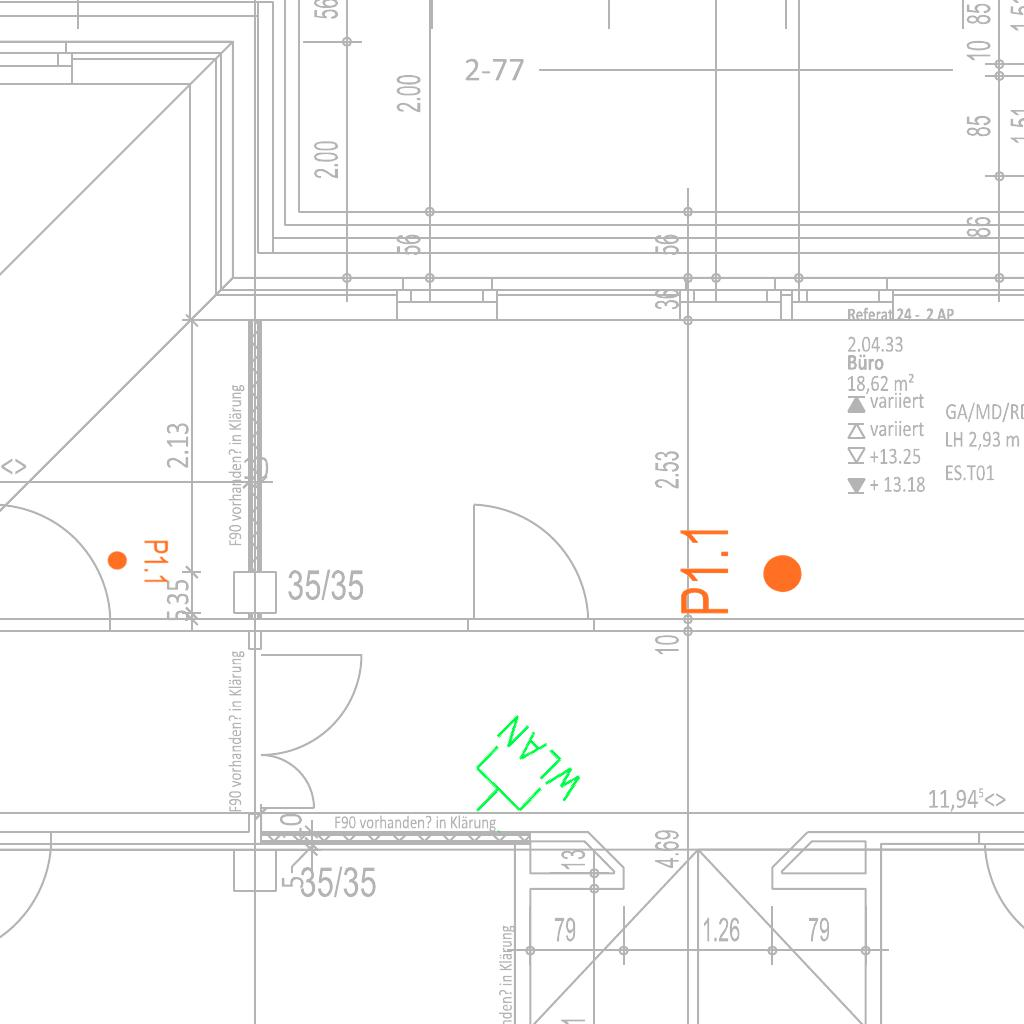Downlight_LED_Einbauleuchten_Flur: (677, 524, 805, 617), (106, 539, 170, 585)
WLAN: (444, 708, 592, 857)
